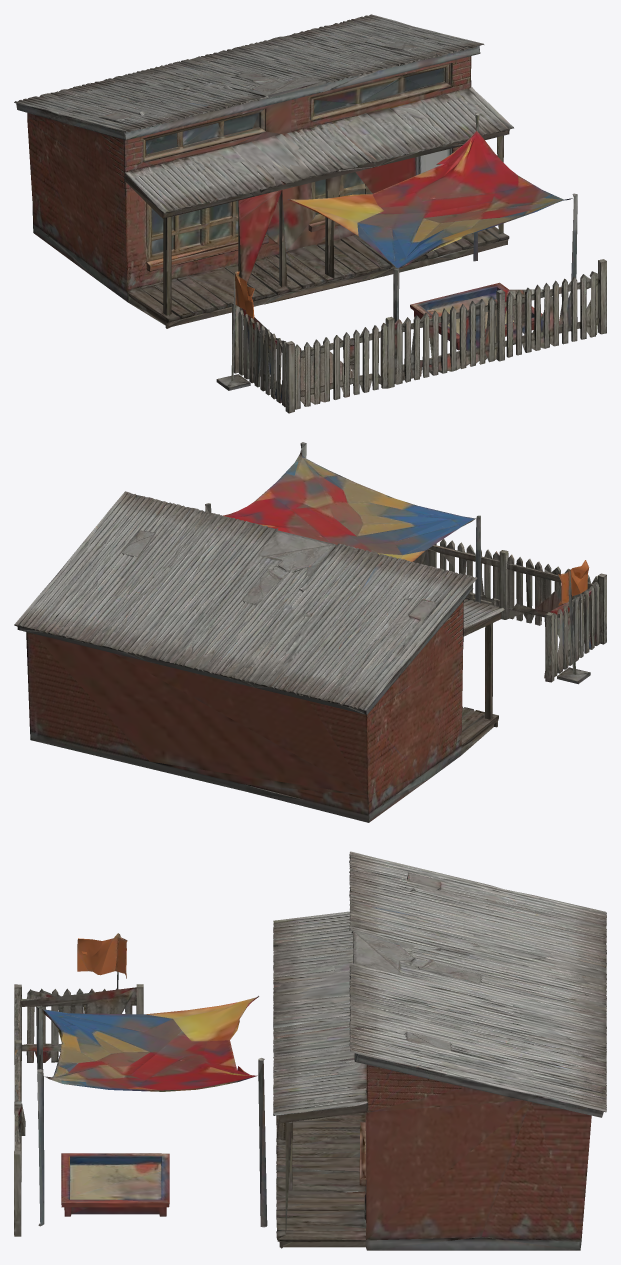
The model's file is school.glb.
The picture shows the model from 3 angles, top to bottom: view 1: azimuth 30°, elevation 25°; view 2: azimuth 150°, elevation 25°; view 3: azimuth 270°, elevation 25°; orthographic projection. The views are drawn at different scales.
Size of the model in its own units: 1.54 by 0.7211 by 1.9.
1 material, 1 textured.
